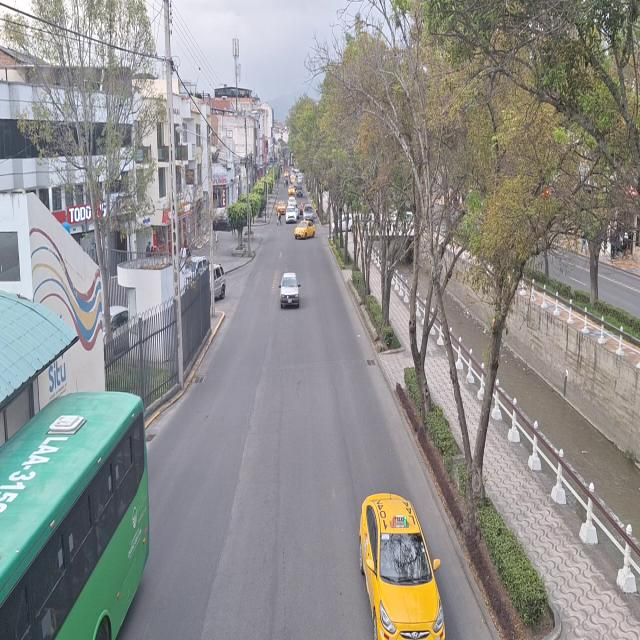BUS: (0, 399, 141, 640)
SED: (358, 497, 440, 639), (279, 274, 300, 307)
